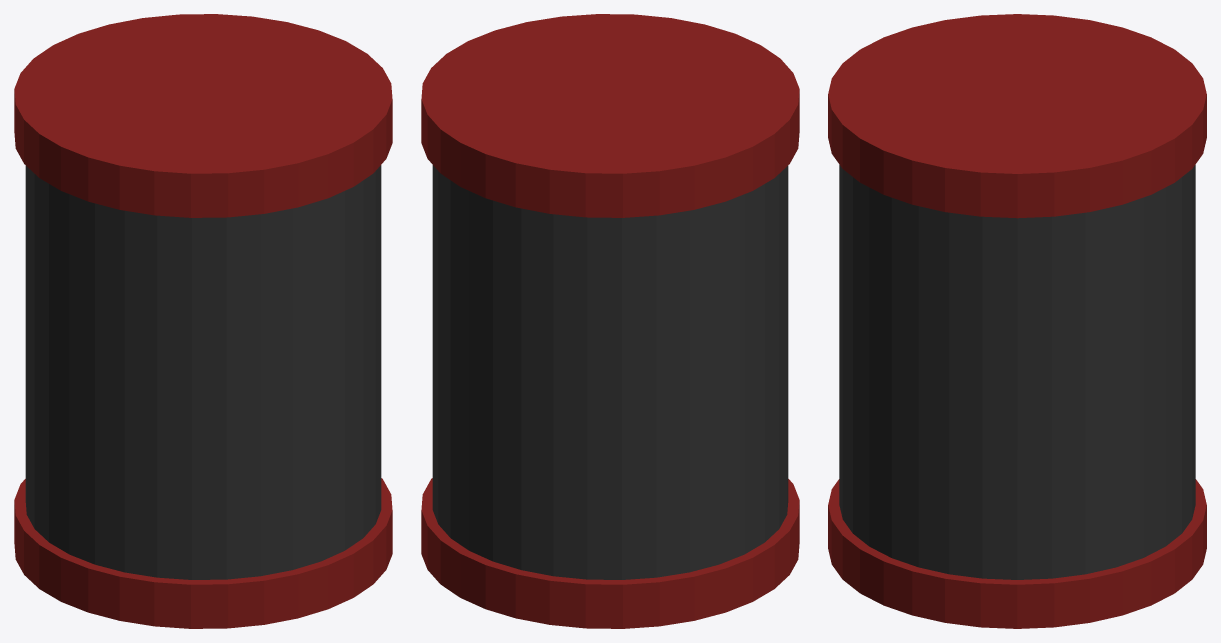
The model's file is EGABase.fbx.
3 renders of one model, left to right at view 1: azimuth 30°, elevation 25°; view 2: azimuth 150°, elevation 25°; view 3: azimuth 270°, elevation 25°, orthographic.
Parts seen in each view (by area): view 1: Cylinder.004; view 2: Cylinder.004; view 3: Cylinder.004.
Boxes of the visible parts, left/top/right/bottom form: Cylinder.004: left=14, top=14, right=392, bottom=628; Cylinder.004: left=421, top=14, right=799, bottom=628; Cylinder.004: left=828, top=14, right=1206, bottom=628.
Bounding box in the file's own units: 993 × 1316 × 993.
